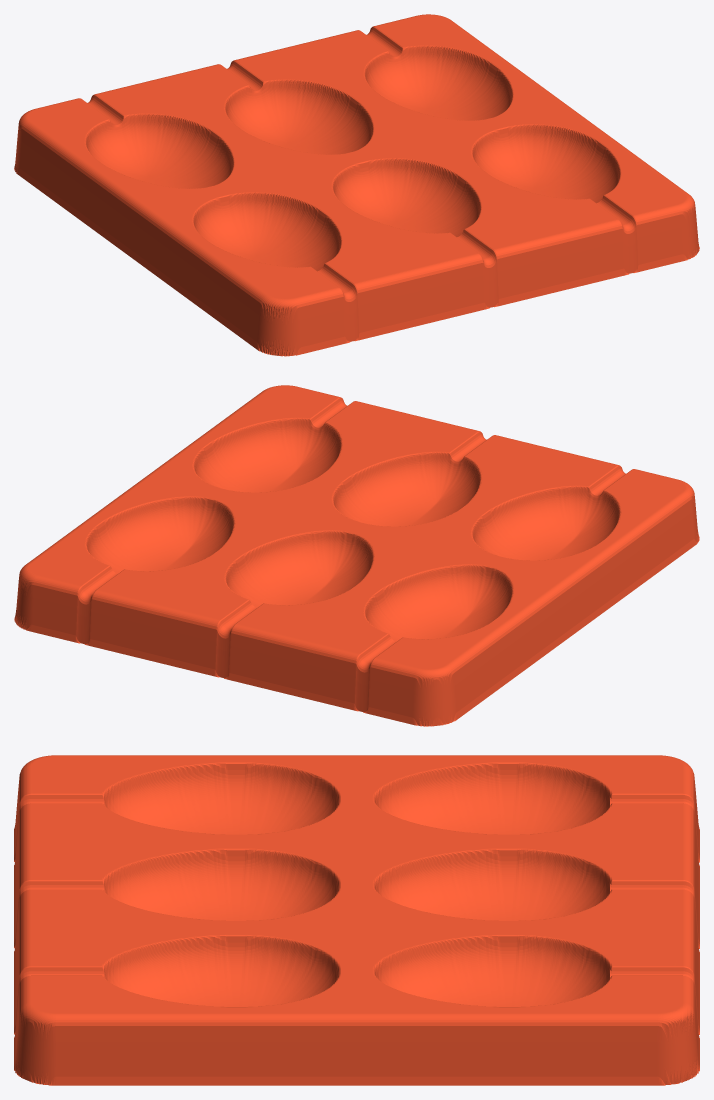
Rendered from mold.glb.
The picture shows the model from 3 angles, top to bottom: view 1: azimuth 30°, elevation 25°; view 2: azimuth 150°, elevation 25°; view 3: azimuth 270°, elevation 25°; orthographic projection. The views are drawn at different scales.
Visible parts, largest first — view 1: geometry_0; view 2: geometry_0; view 3: geometry_0.
Part boxes in pixels (x1,y1,x2,y2): geometry_0: [14, 14, 699, 356]; geometry_0: [14, 385, 699, 726]; geometry_0: [14, 755, 699, 1085].
Bounding box in the file's own units: 0.1382 × 0.0155 × 0.1477.
